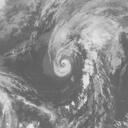cyclone: (51, 55, 72, 77)
